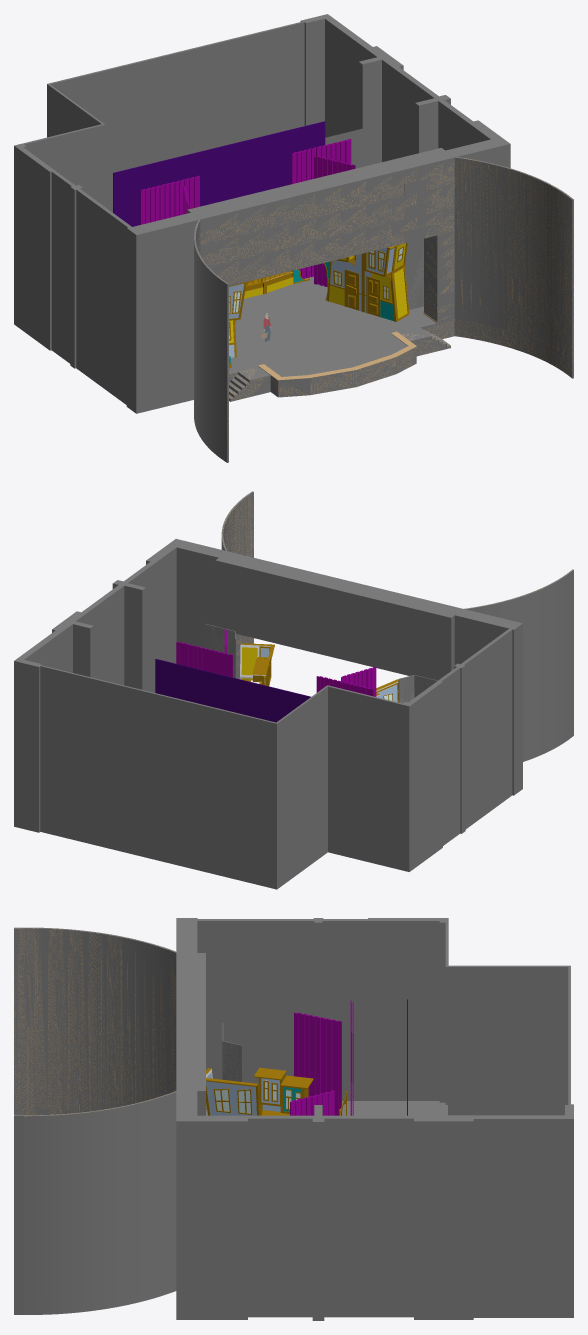
3 views of the same model, one above another, from view 1: azimuth 30°, elevation 25°; view 2: azimuth 150°, elevation 25°; view 3: azimuth 270°, elevation 25° (orthographic). The views are drawn at different scales.
Visible parts, largest first — view 1: group_43.005, group_43.006, group_5, group_43.047, group_8, group_46, group_45.001, group_43.059, group_41.001, group_43.094; view 2: group_43.005, group_43.059, group_5, group_43.006, group_41.001, group_45.001, group_8; view 3: group_43.005, group_43.006, group_43.059, group_25.006, group_42.001, group_44.001, group_19.001.
Part boxes in pixels (box(x1,y1,x2,y2)): group_43.005: box(14, 14, 573, 462); group_43.006: box(194, 157, 573, 445); group_5: box(113, 121, 325, 226); group_43.047: box(270, 347, 416, 397); group_8: box(327, 242, 407, 321); group_46: box(89, 124, 381, 212); group_45.001: box(405, 238, 423, 309); group_43.059: box(187, 148, 444, 213); group_41.001: box(405, 239, 423, 309); group_43.094: box(258, 331, 416, 380); group_43.005: box(14, 499, 573, 889); group_43.059: box(176, 547, 454, 680); group_5: box(155, 659, 310, 722); group_43.006: box(221, 491, 573, 679); group_41.001: box(204, 624, 235, 678); group_45.001: box(204, 625, 235, 677); group_8: box(240, 643, 274, 686); group_43.005: box(14, 918, 573, 1320); group_43.006: box(14, 927, 176, 1116); group_43.059: box(197, 953, 205, 1115); group_25.006: box(206, 1081, 256, 1115); group_42.001: box(222, 1041, 241, 1081); group_44.001: box(222, 1042, 241, 1081); group_19.001: box(280, 1075, 313, 1113).
Size of the model in its own units: 23.1 by 10.5 by 26.8.
20 materials, 1 textured.
